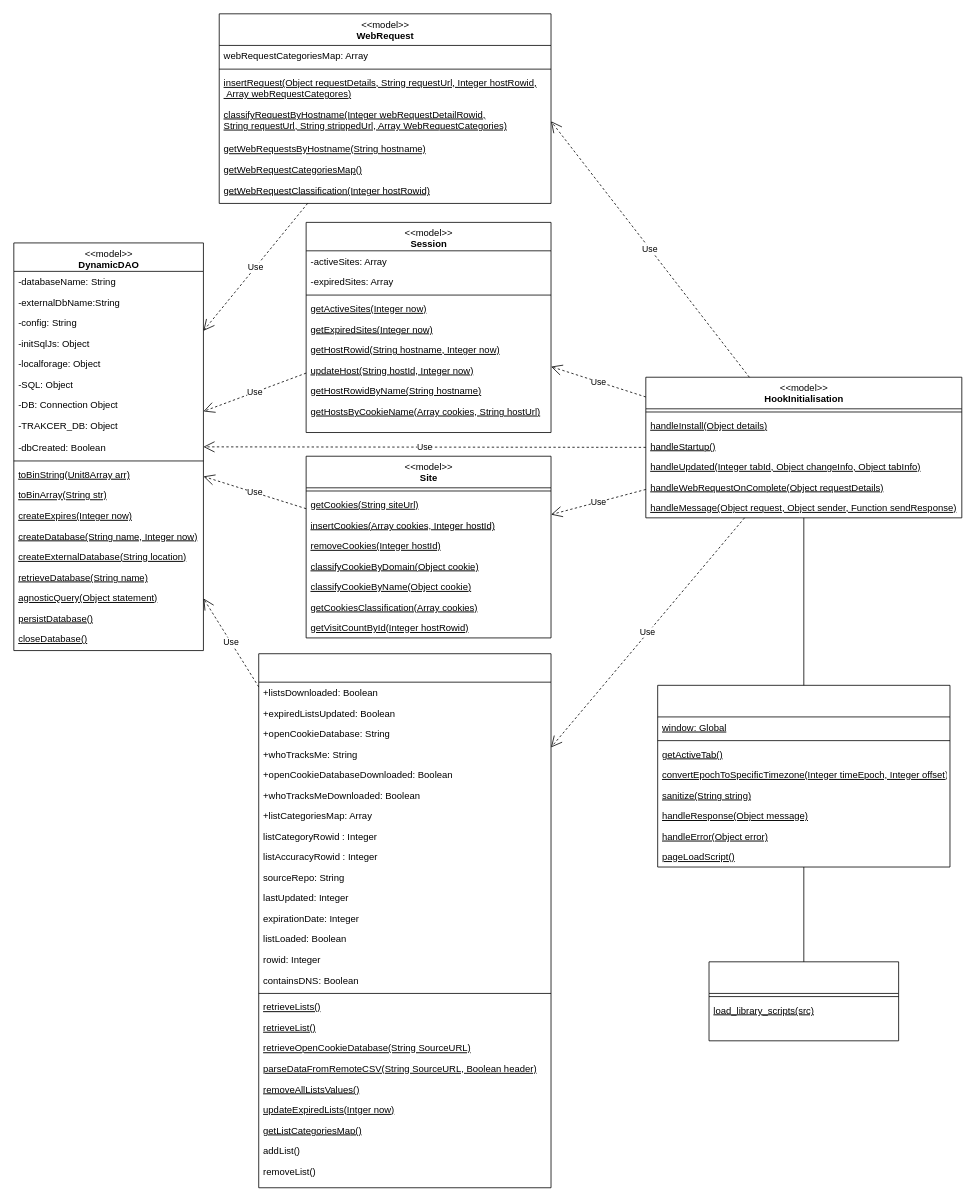
Image size: 976x1202. Some labels were removed from this diagram. The box of each missing label's shape, as (x1, y1, x2, y2) in pixels:
<<controller>> Popup_controller: (657, 685, 950, 867)
<<model>> List: (258, 653, 551, 1188)
<<view>> Popup_view: (708, 961, 899, 1041)
